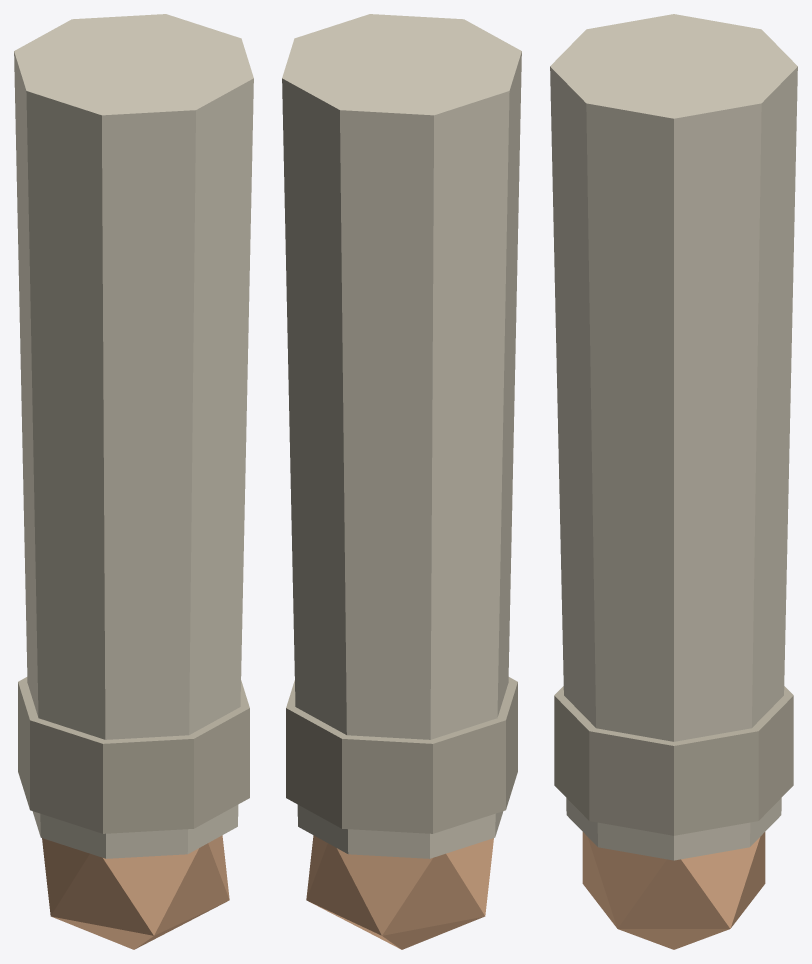
The model's file is insan_e0_kol.glb.
The picture shows the model from 3 angles, left to right: view 1: azimuth 30°, elevation 25°; view 2: azimuth 150°, elevation 25°; view 3: azimuth 270°, elevation 25°; orthographic projection.
Visible parts, largest first — view 1: Cone; view 2: Cone; view 3: Cone.
Part boxes in pixels (<box>): Cone: <box>14,14,253,949</box>; Cone: <box>282,14,521,949</box>; Cone: <box>550,14,797,949</box>.
Size of the model in its own units: 0.03 by 0.118 by 0.03.
